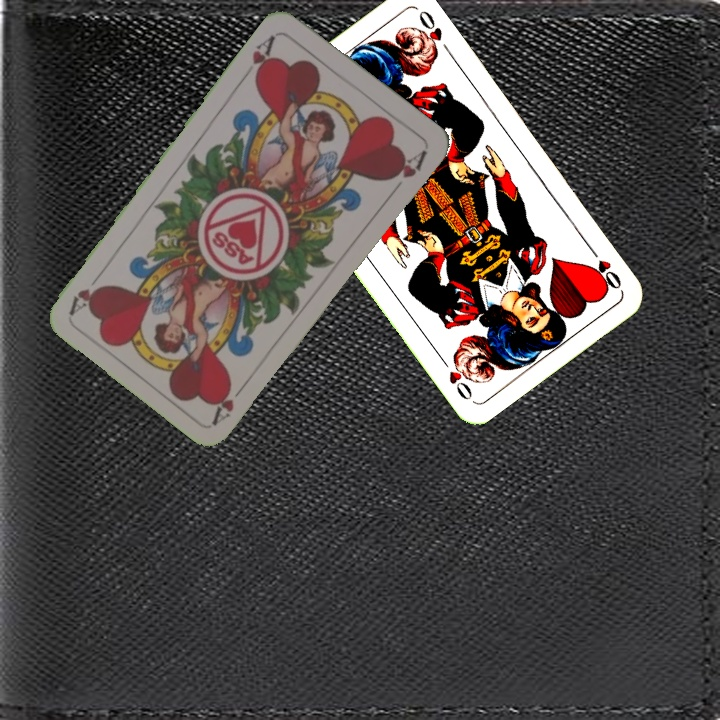HA: (209, 375, 252, 426), (239, 31, 279, 84)
HO: (583, 241, 625, 292)
